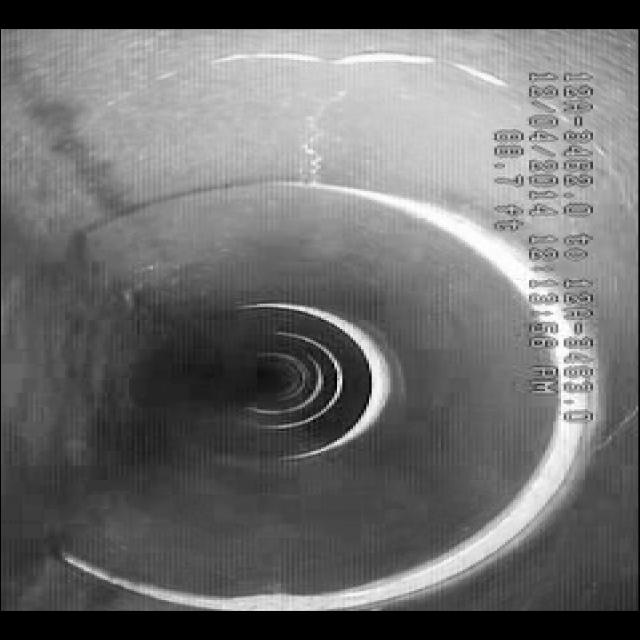Crack: (268, 82, 370, 192)
